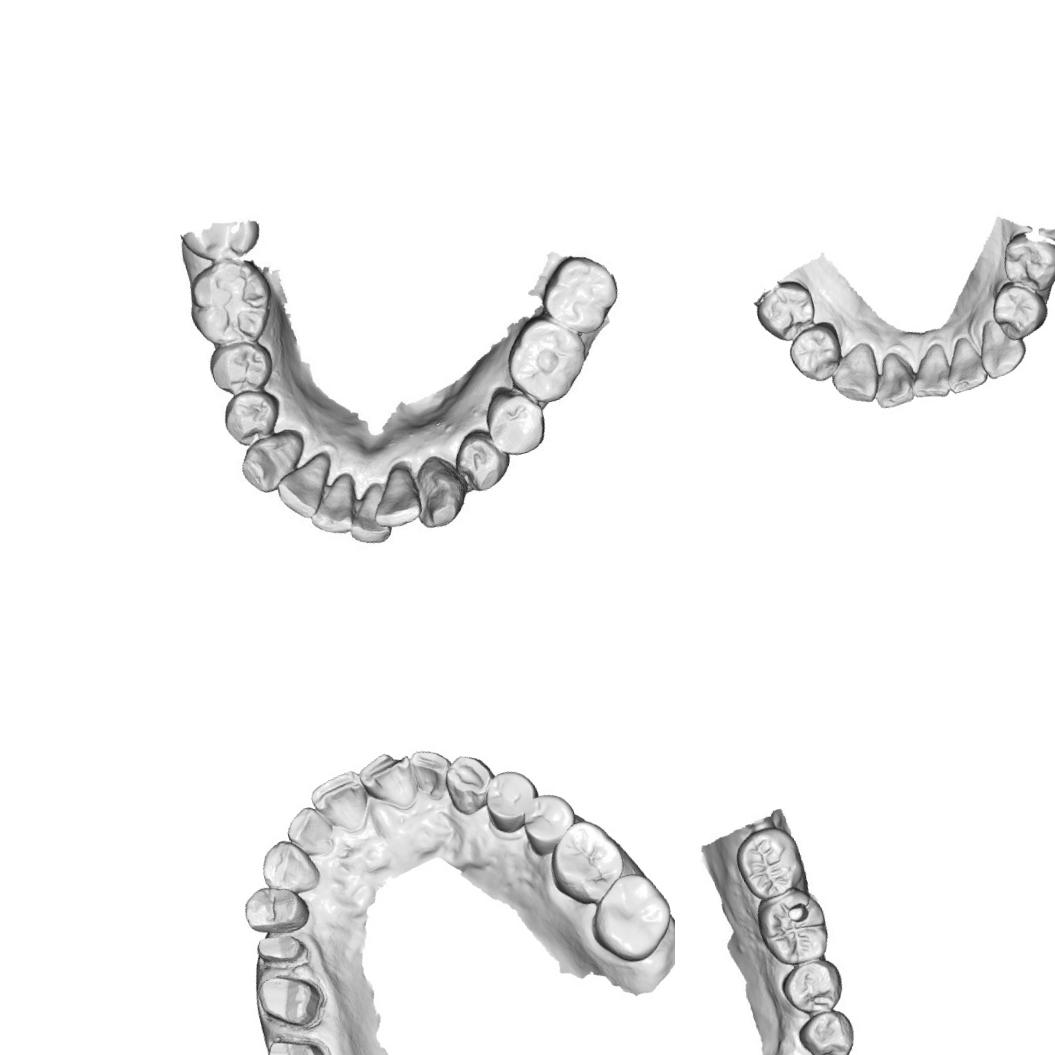canine: (230, 422, 316, 499), (404, 448, 472, 533), (253, 832, 324, 902), (438, 748, 502, 820), (824, 338, 887, 410), (969, 312, 1031, 381)
crown: (250, 964, 334, 1040), (251, 925, 315, 978), (257, 1023, 341, 1055)
incisor: (304, 763, 375, 840), (302, 464, 370, 541), (354, 745, 424, 819), (270, 452, 341, 524), (360, 457, 426, 533), (340, 475, 398, 549), (278, 798, 340, 864), (900, 339, 956, 404), (936, 332, 990, 396), (405, 741, 459, 805), (864, 349, 917, 411)
molar: (174, 249, 286, 356), (495, 310, 598, 410), (580, 865, 675, 971), (538, 810, 634, 913), (530, 244, 626, 342), (753, 883, 836, 970), (734, 824, 804, 896)
premolar: (476, 378, 552, 464), (202, 333, 280, 401), (236, 875, 314, 943), (749, 274, 821, 347), (476, 762, 546, 837), (514, 786, 584, 860), (985, 272, 1053, 344), (213, 382, 287, 448), (448, 425, 513, 500), (994, 221, 1055, 298), (782, 317, 849, 387), (781, 957, 842, 1018), (797, 1006, 860, 1055)
